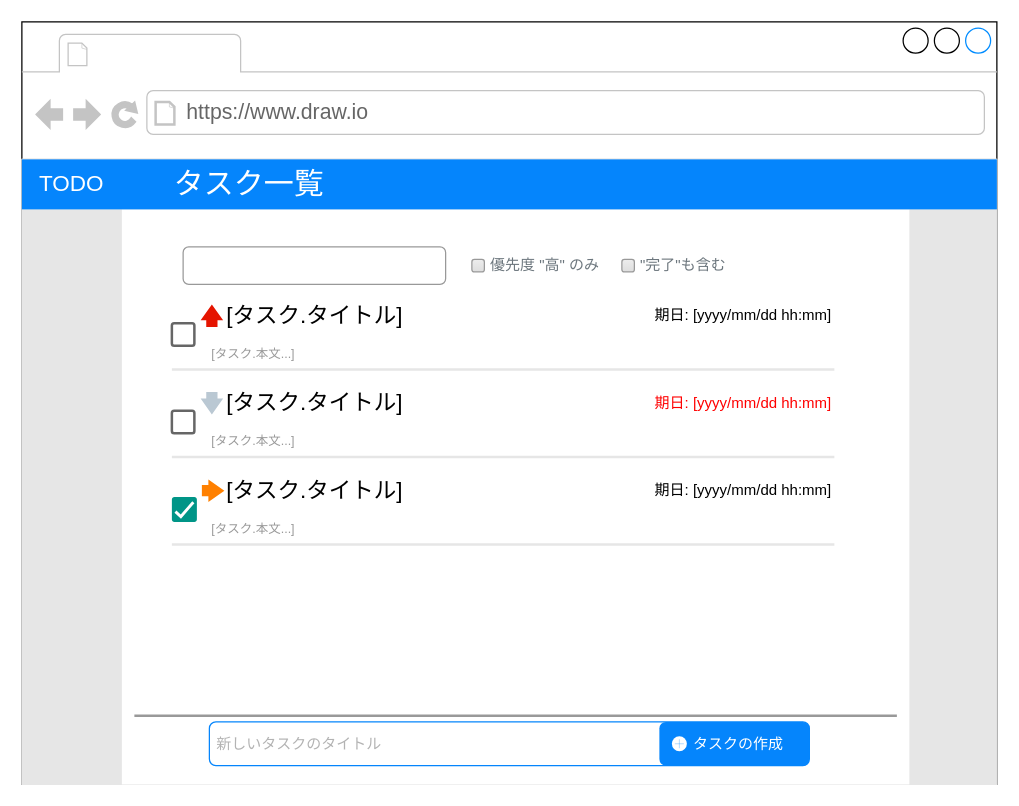
Some shapes in this 1019 by 806 pixel diagram are drawn without their labels. Here are the shapes that lost their labels. From the top down, the centre of each, then its label:
[165,52]: Page 1
[314,265]: 検索
